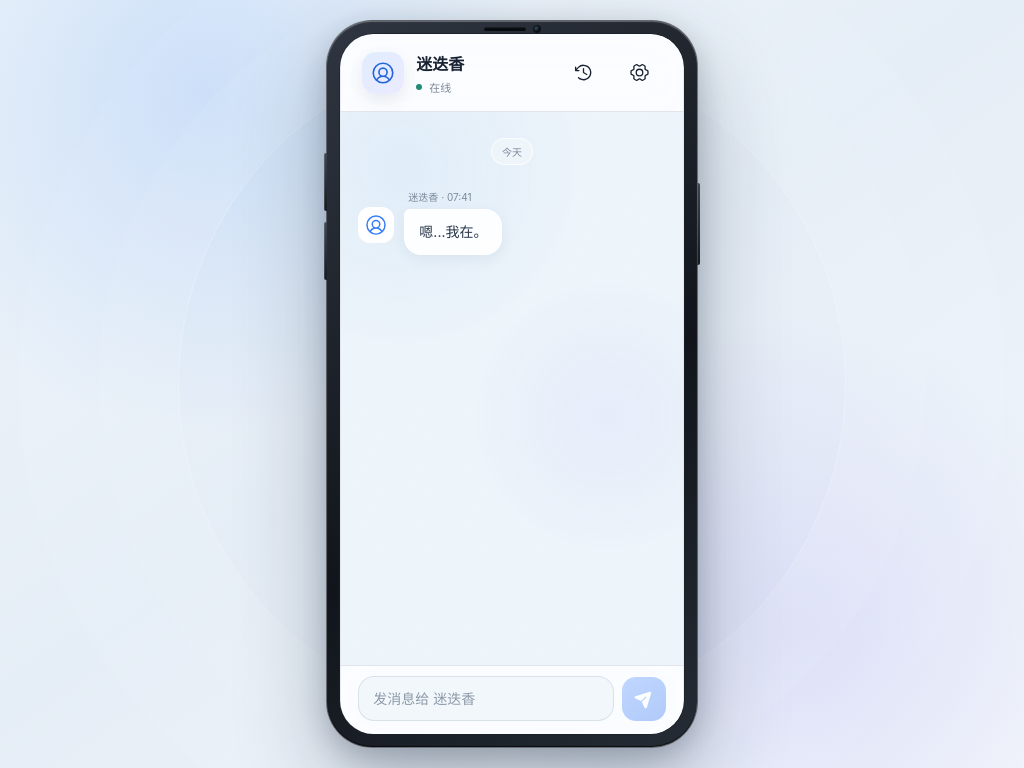
Test: accessibility contracts › closes the management center with Escape and restores focus to the gear
Click the button named "打开管理中心". click: point(640, 72)
box: [618, 50, 662, 94]
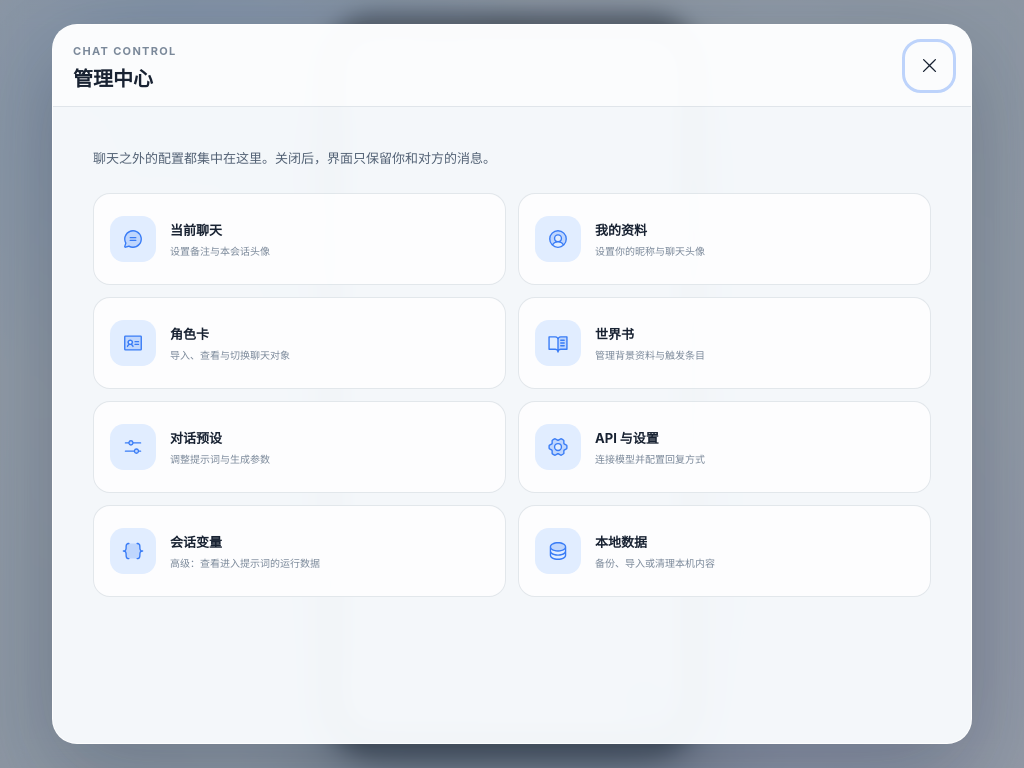
Check: the dialog "管理中心" is shown
Press Escape
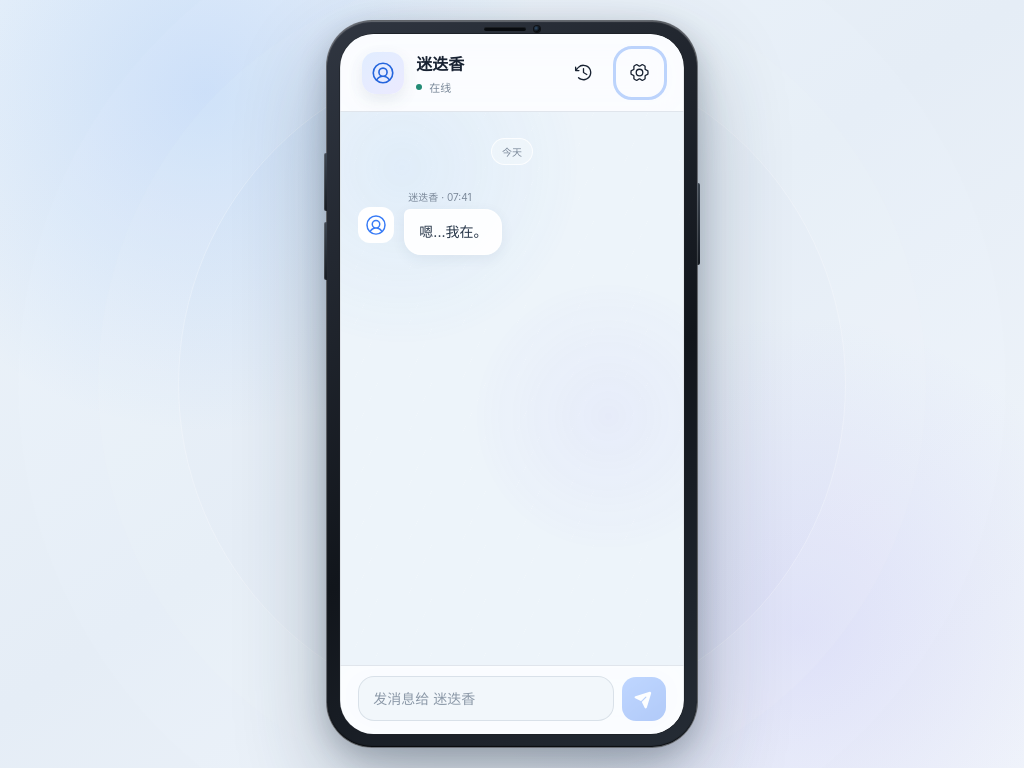
Check: the heading "管理中心" is gone
